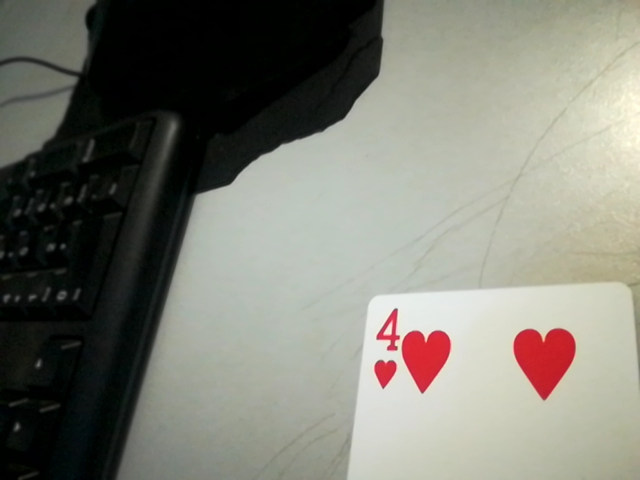hx 4: (363, 304, 407, 395)
